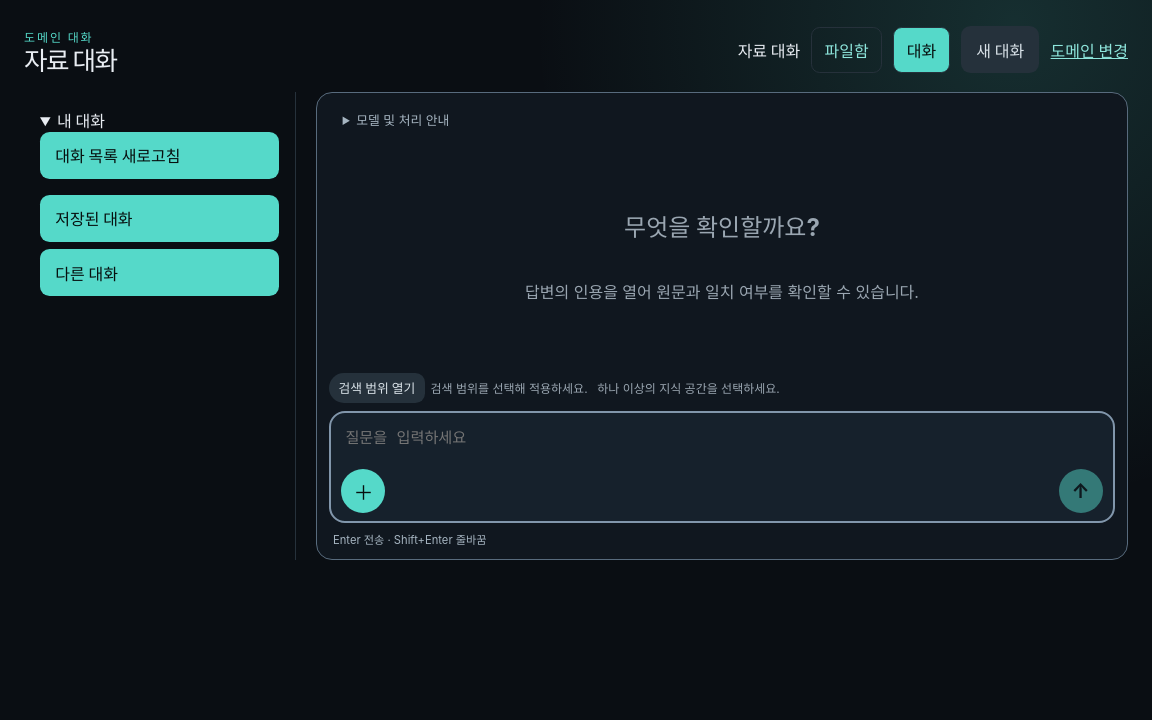
Test: hides redacted turns and ignores a late detail after switching sessions
Step 1. Click the button "저장된 대화" → (160, 218), box [40,195,279,242]
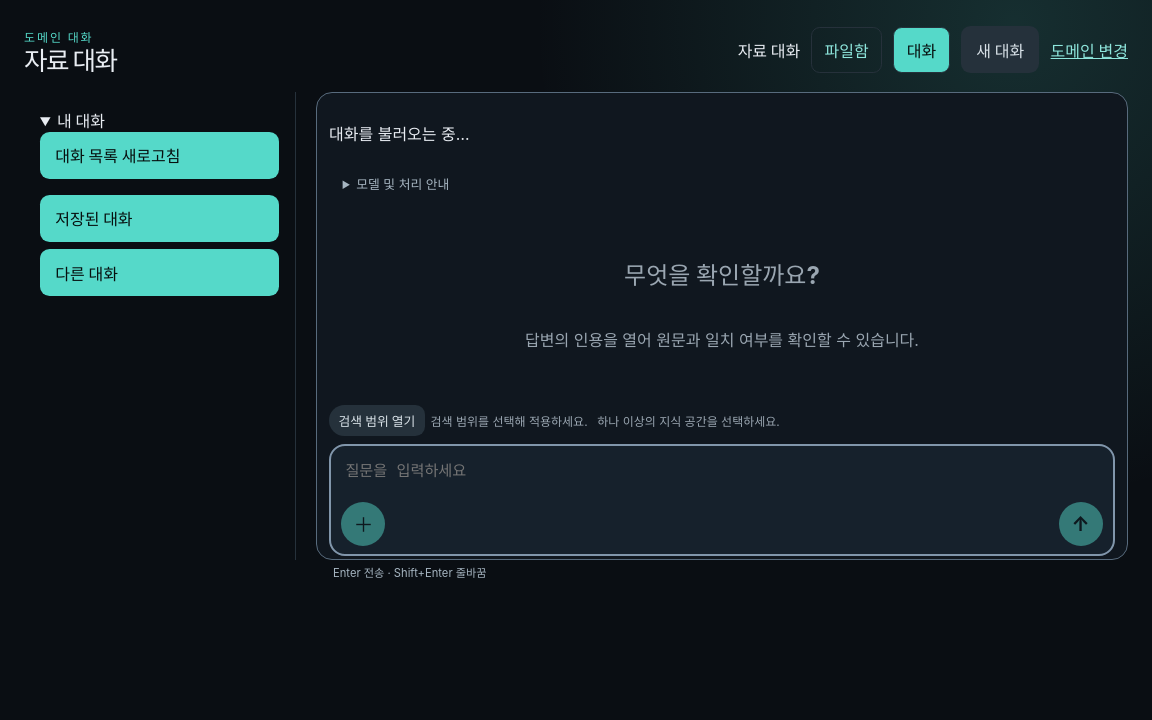
Step 2. Click the button "다른 대화" → (160, 273), box [40,249,279,296]
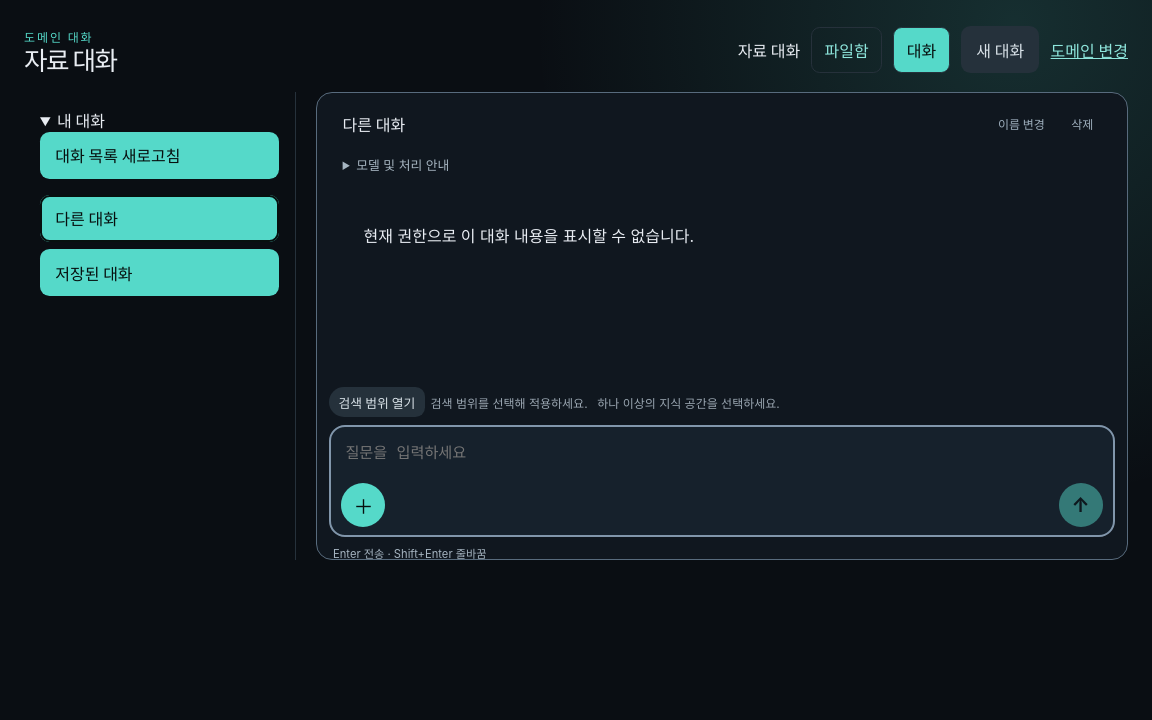
expect the text "현재 권한으로 이 대화 내용을 표시할 수 없습니다." is shown: met, box [364,226,694,246]
